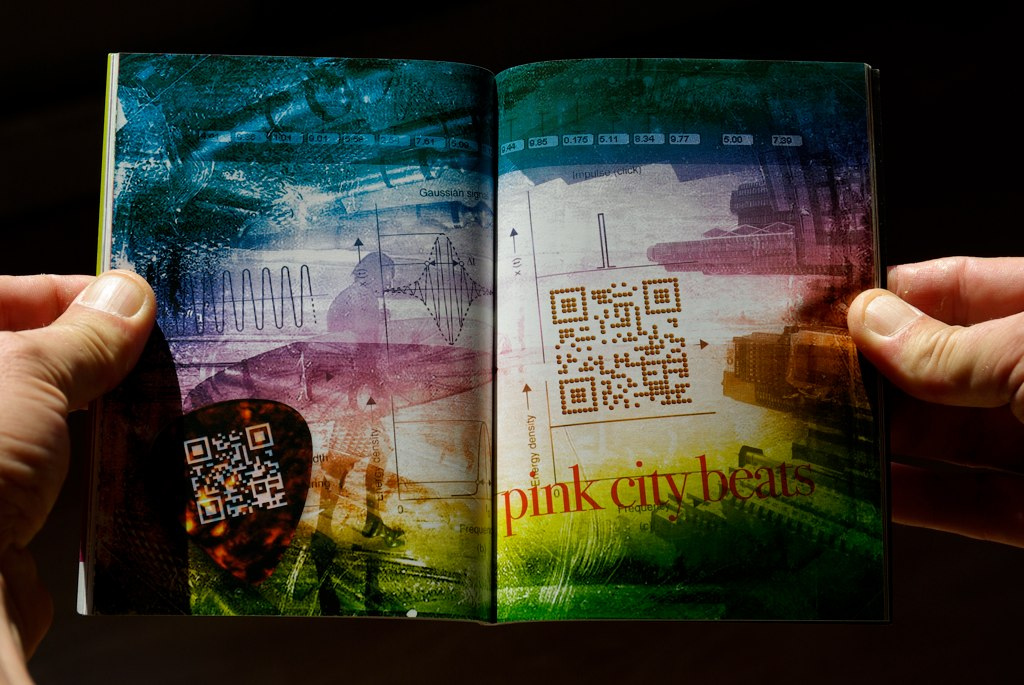QR-CODE: (549, 277, 692, 414), (183, 422, 287, 524)
